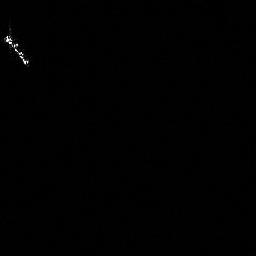ship: (2, 32, 32, 66)
